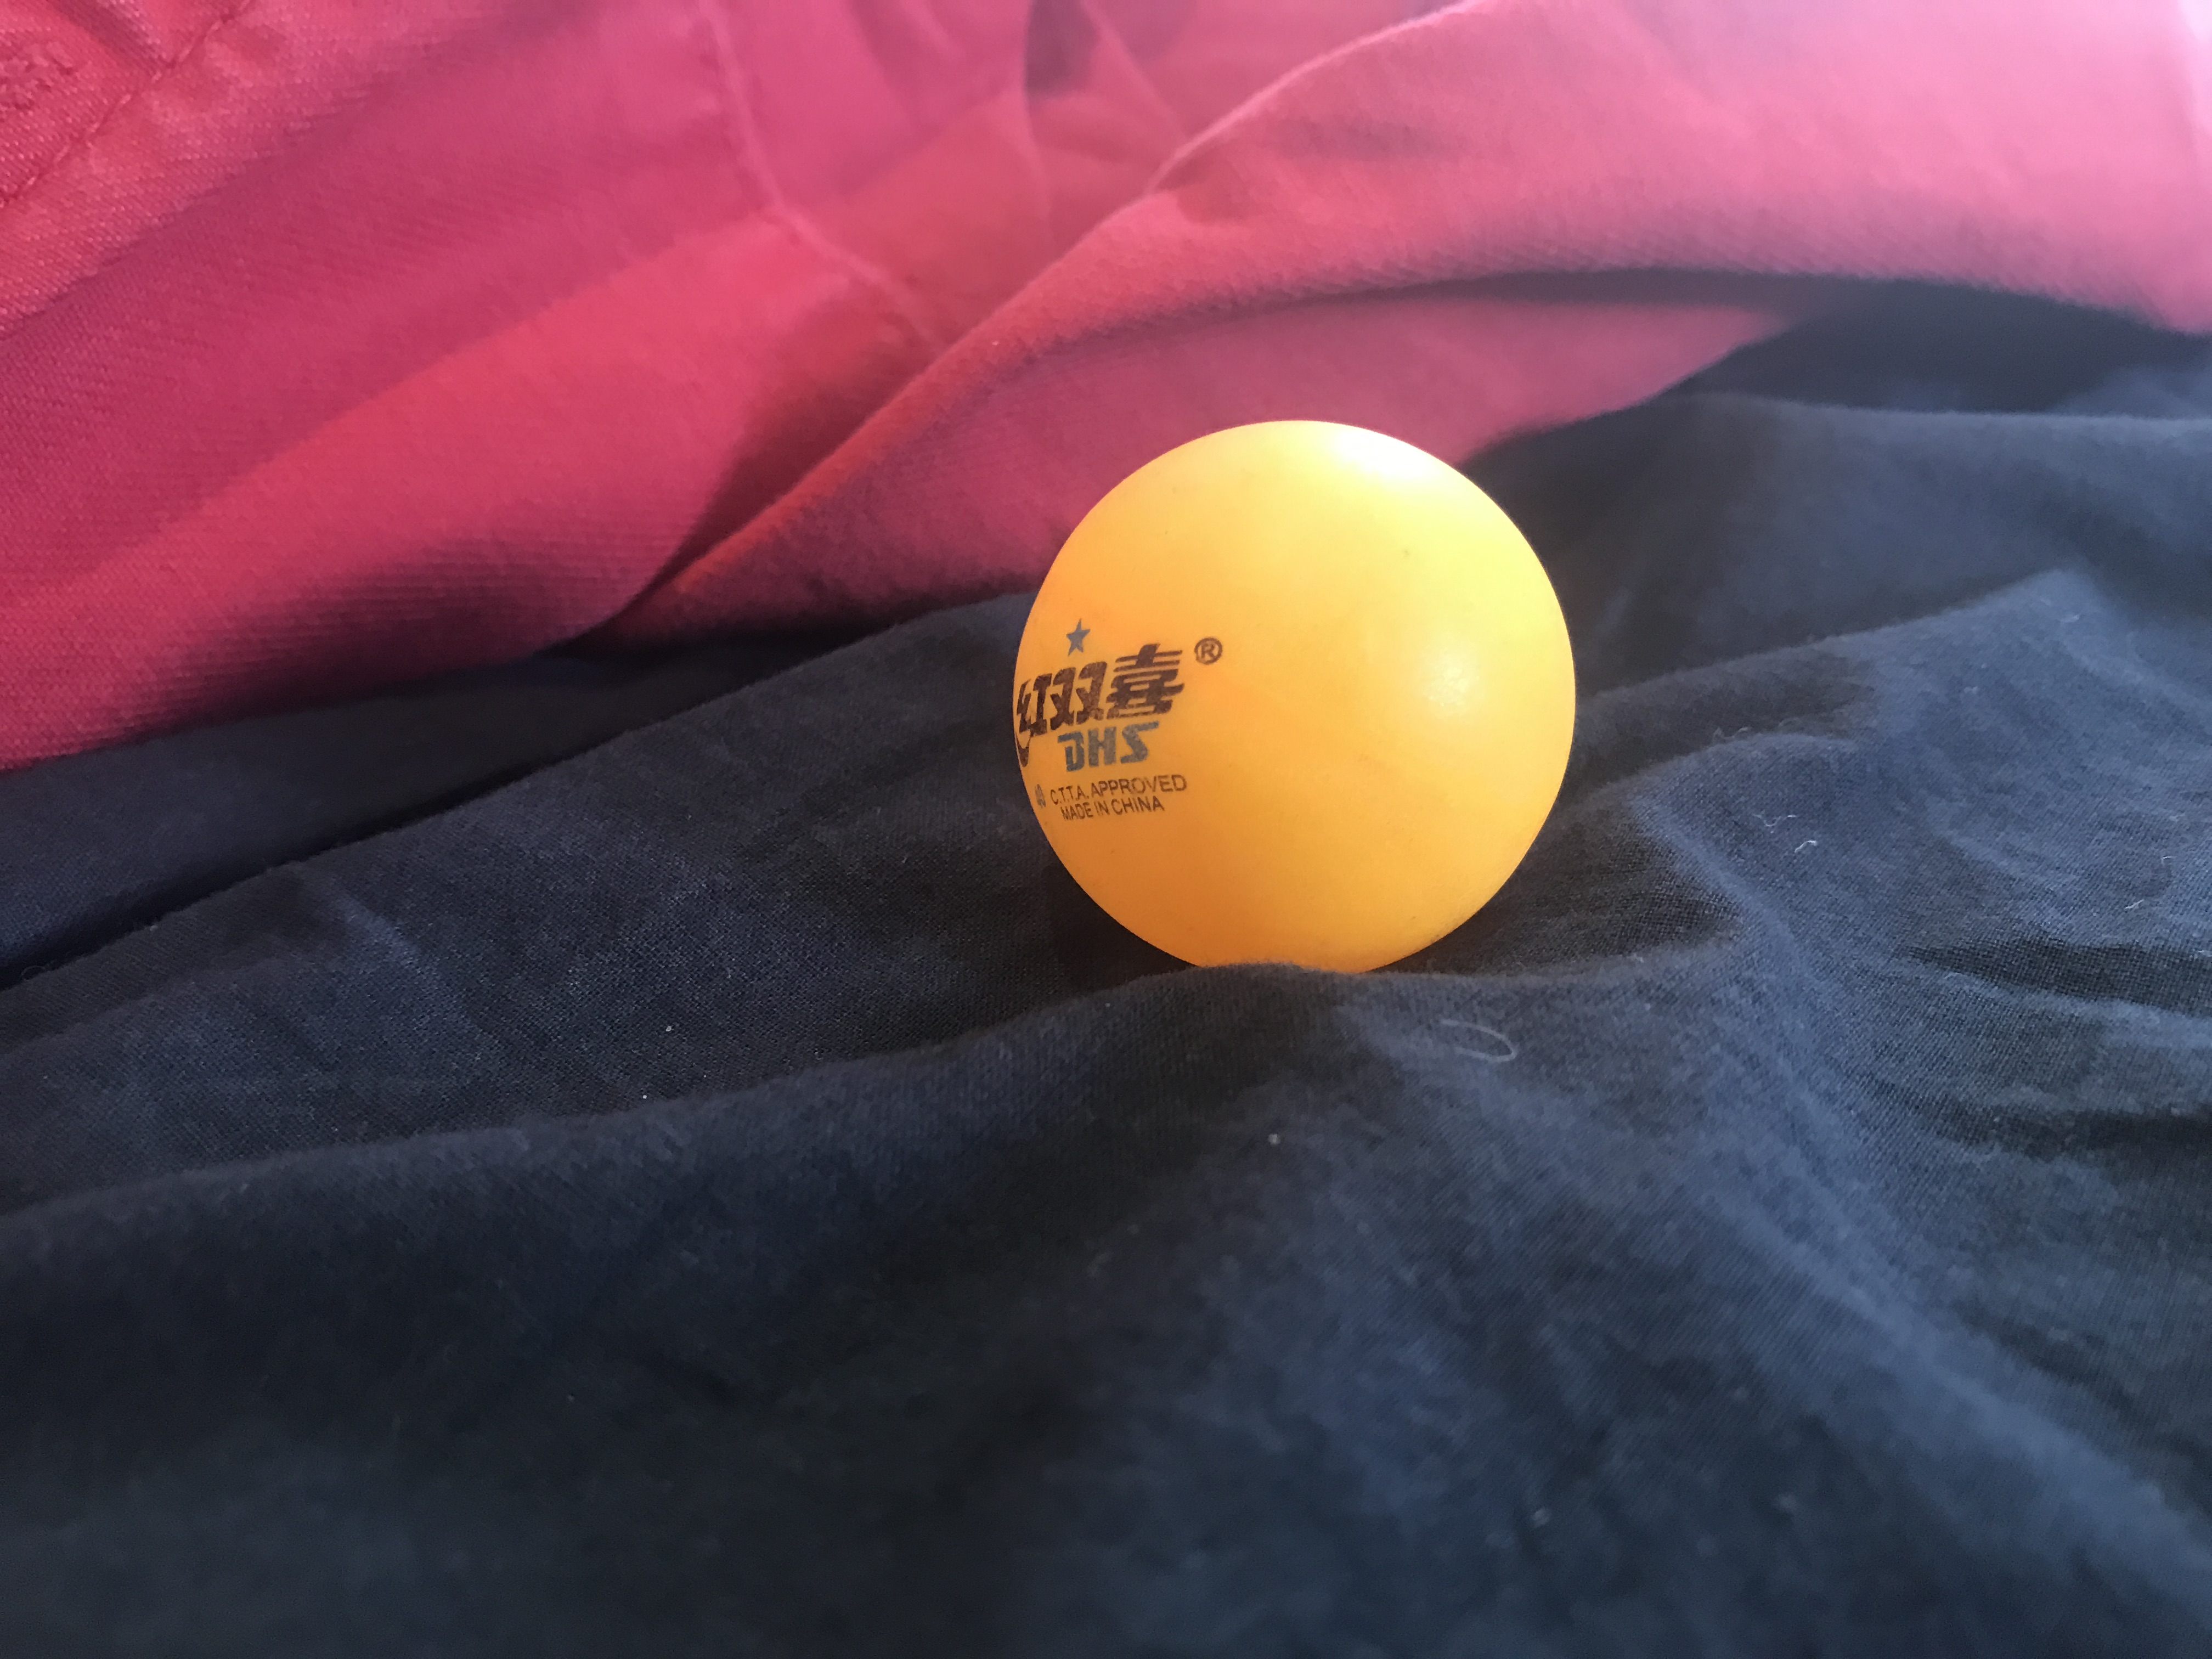pp: (1001, 418, 1581, 990)
